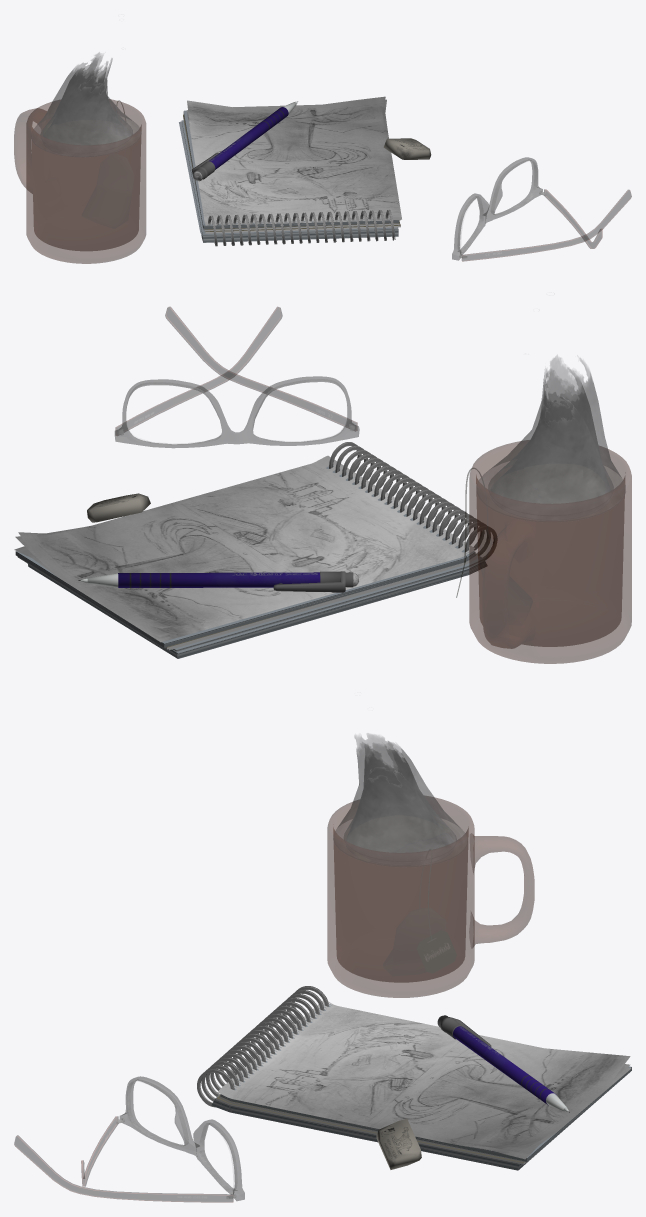
The model's file is desk.gltf.
The picture shows the model from 3 angles, top to bottom: view 1: azimuth 30°, elevation 25°; view 2: azimuth 150°, elevation 25°; view 3: azimuth 270°, elevation 25°; orthographic projection. The views are drawn at different scales.
Parts seen in each view (by area): view 1: Cube.018, Cup_LP.002, Steam.003, Steam.004, Paketik_LP.001, Cylinder.001, Steam.005, Ochki_lp.001, Cube.009, Duhka_lp.002, Pen_LP, Cube.010 (+7 smaller); view 2: Cube.018, Cup_LP.002, Steam.003, Steam.004, Plane, Cube.009, Ochki_lp.001, Cube.010, Pen_LP, Cylinder.001, Steam.005, Duhka_lp.002 (+9 smaller); view 3: Cube.018, Cup_LP.002, Steam.003, Steam.004, Plane, Ochki_lp.001, Steam.005, Paketik_LP.001, Cube.009, Duhka_lp.001, Pen_LP, Cylinder.001 (+5 smaller).
Part boxes in pixels (x1=…): Cube.018: x1=187, y1=96, x2=400, y2=224; Cup_LP.002: x1=14, y1=99, x2=145, y2=263; Steam.003: x1=31, y1=52, x2=140, y2=156; Steam.004: x1=41, y1=57, x2=132, y2=144; Paketik_LP.001: x1=82, y1=153, x2=133, y2=228; Cylinder.001: x1=208, y1=210, x2=394, y2=246; Steam.005: x1=49, y1=78, x2=124, y2=139; Ochki_lp.001: x1=452, y1=157, x2=542, y2=260; Cube.009: x1=181, y1=120, x2=398, y2=242; Duhka_lp.002: x1=462, y1=190, x2=631, y2=261; Pen_LP: x1=193, y1=101, x2=297, y2=180; Cube.010: x1=183, y1=110, x2=399, y2=229; Cube.018: x1=18, y1=455, x2=474, y2=628; Cup_LP.002: x1=469, y1=440, x2=631, y2=663; Steam.003: x1=477, y1=356, x2=625, y2=521; Steam.004: x1=489, y1=369, x2=613, y2=503; Plane: x1=329, y1=442, x2=497, y2=559; Cube.009: x1=28, y1=557, x2=487, y2=658; Ochki_lp.001: x1=115, y1=376, x2=359, y2=447; Cube.010: x1=15, y1=465, x2=475, y2=647; Pen_LP: x1=80, y1=572, x2=358, y2=587; Cylinder.001: x1=329, y1=442, x2=494, y2=558; Steam.005: x1=500, y1=398, x2=609, y2=487; Duhka_lp.002: x1=165, y1=307, x2=357, y2=431; Cube.018: x1=218, y1=1000, x2=630, y2=1146; Cup_LP.002: x1=327, y1=796, x2=534, y2=997; Steam.003: x1=333, y1=733, x2=467, y2=866; Steam.004: x1=344, y1=743, x2=456, y2=852; Plane: x1=197, y1=986, x2=328, y2=1107; Ochki_lp.001: x1=120, y1=1076, x2=244, y2=1200; Steam.005: x1=348, y1=771, x2=449, y2=838; Paketik_LP.001: x1=383, y1=908, x2=446, y2=975; Cube.009: x1=211, y1=1094, x2=584, y2=1170; Duhka_lp.001: x1=14, y1=1135, x2=233, y2=1202; Pen_LP: x1=437, y1=1016, x2=568, y2=1111; Cylinder.001: x1=199, y1=986, x2=328, y2=1102.
Size of the model in its own units: 3852 by 1862 by 3606.
6 materials, 6 textured.
